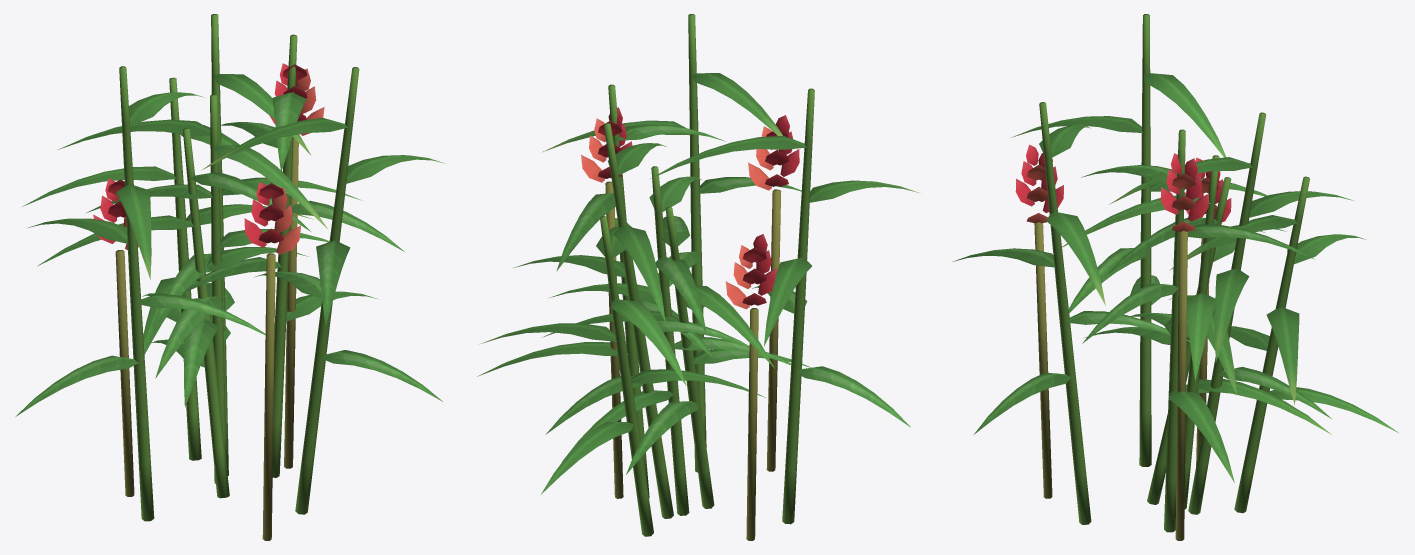
Rendered from ginger.glb.
3 renders of one model, left to right at view 1: azimuth 30°, elevation 25°; view 2: azimuth 150°, elevation 25°; view 3: azimuth 270°, elevation 25°, orthographic. The views are drawn at different scales.
Visible parts, largest first — view 1: Ginger_leaf, GingerFlower; view 2: Ginger_leaf, GingerFlower; view 3: Ginger_leaf, GingerFlower.
Part boxes in pixels (left/top/right/bottom): Ginger_leaf: left=15, top=14, right=445, bottom=540; GingerFlower: left=93, top=63, right=324, bottom=254; Ginger_leaf: left=477, top=14, right=918, bottom=540; GingerFlower: left=581, top=107, right=799, bottom=309; Ginger_leaf: left=952, top=14, right=1399, bottom=540; GingerFlower: left=1015, top=144, right=1231, bottom=231.
Bounding box in the file's own units: 1.05 × 1.12 × 1.04.
1 material, 1 textured.
